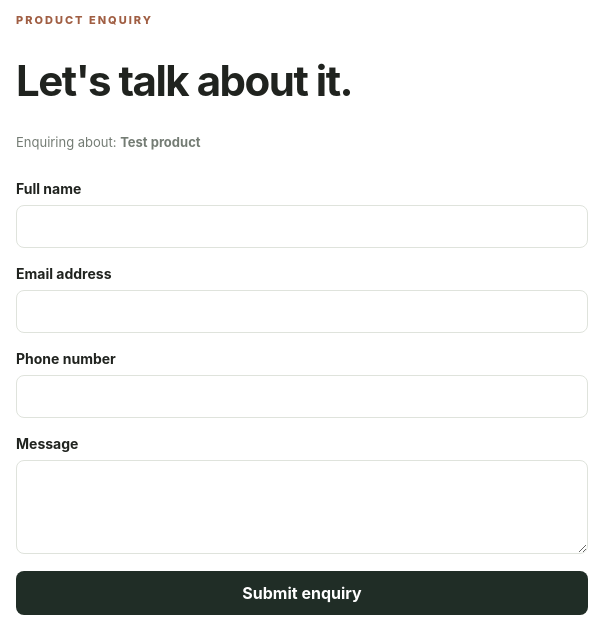
it: Enquiry feature › submits a valid enquiry and shows success
Type "Taylor Example" into the field labelled "Full name". click: (302, 227)
box: [16,205,588,248]
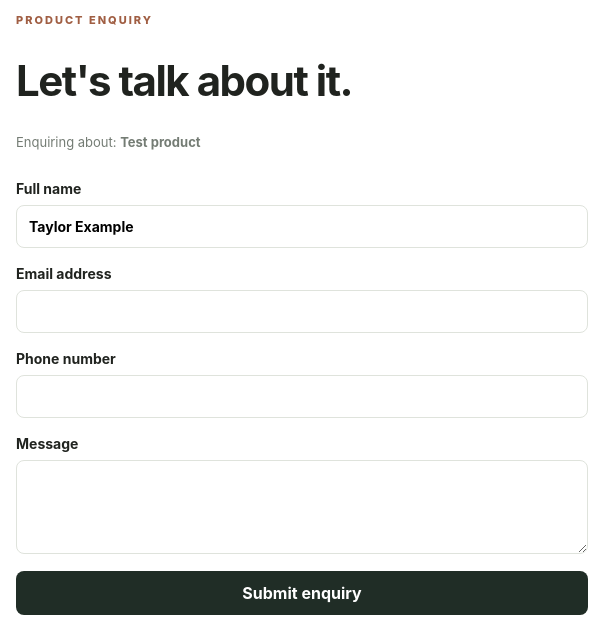
Type "taylor@example.test" into the field labelled "Email address". click: (302, 312)
box: [16,290,588,333]
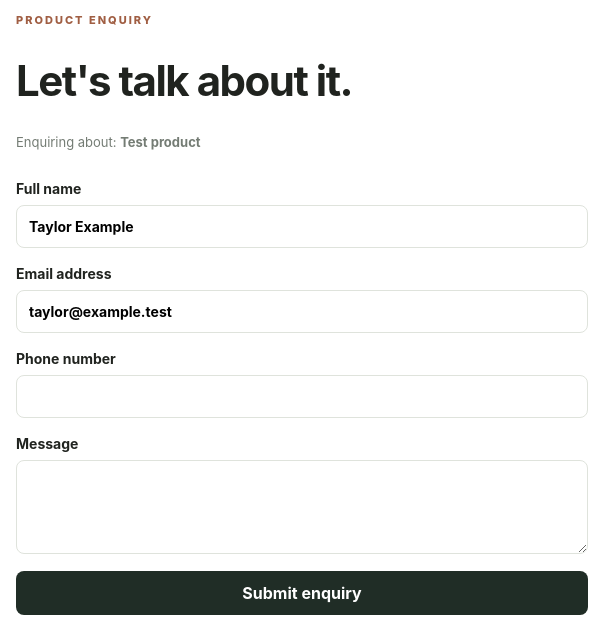
Type "+1 555 123 4567" into the field labelled "Phone number". click: (302, 397)
box: [16,375,588,418]
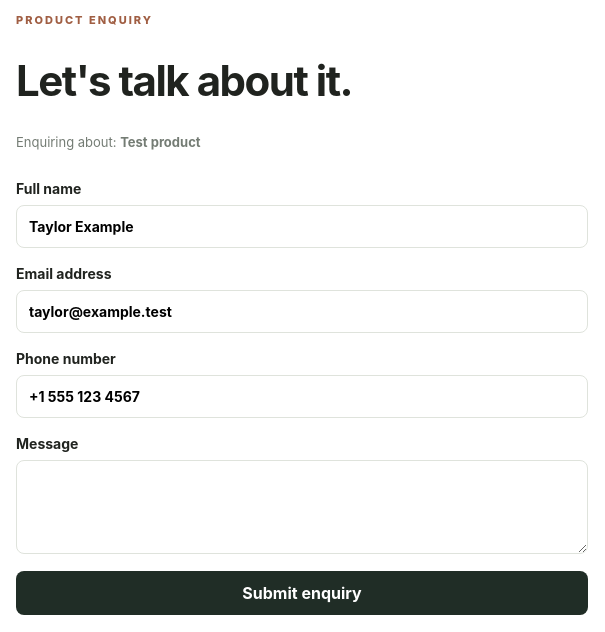
Type "Please send me more information." into the text box labelled "Message". click: (302, 507)
box: [16,460,588,554]
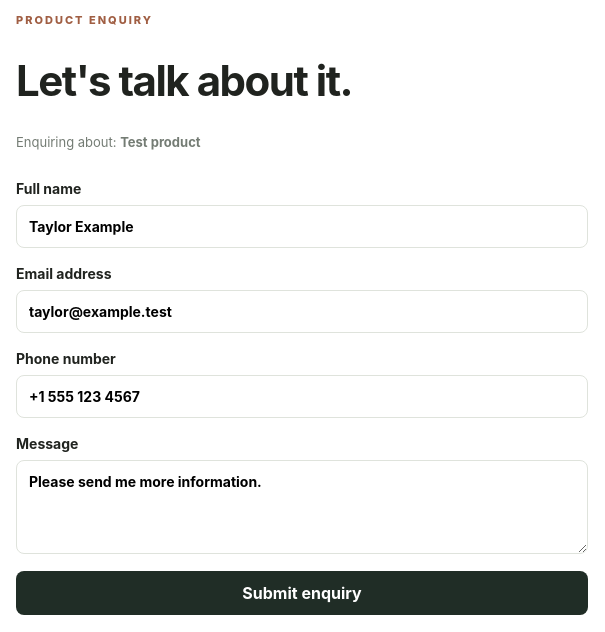
Click the button "Submit enquiry". click: (302, 593)
box: [16,571,588,615]
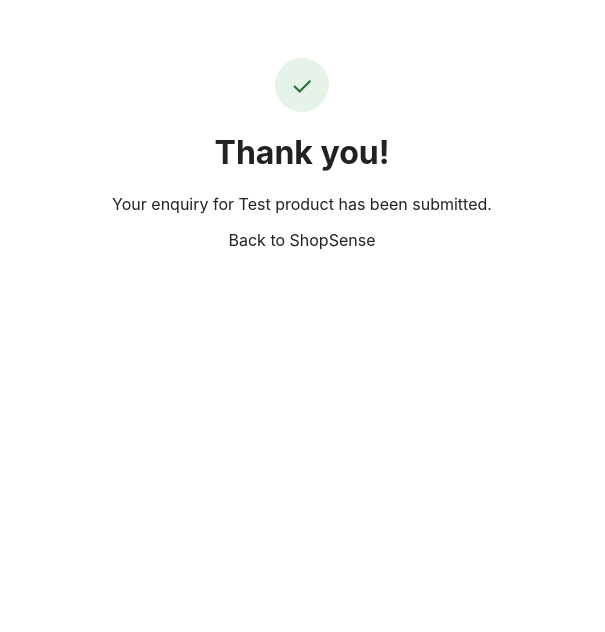
expect the text "Your enquiry for Test product has been submitted." is shown: met, box [112,194,492,214]
